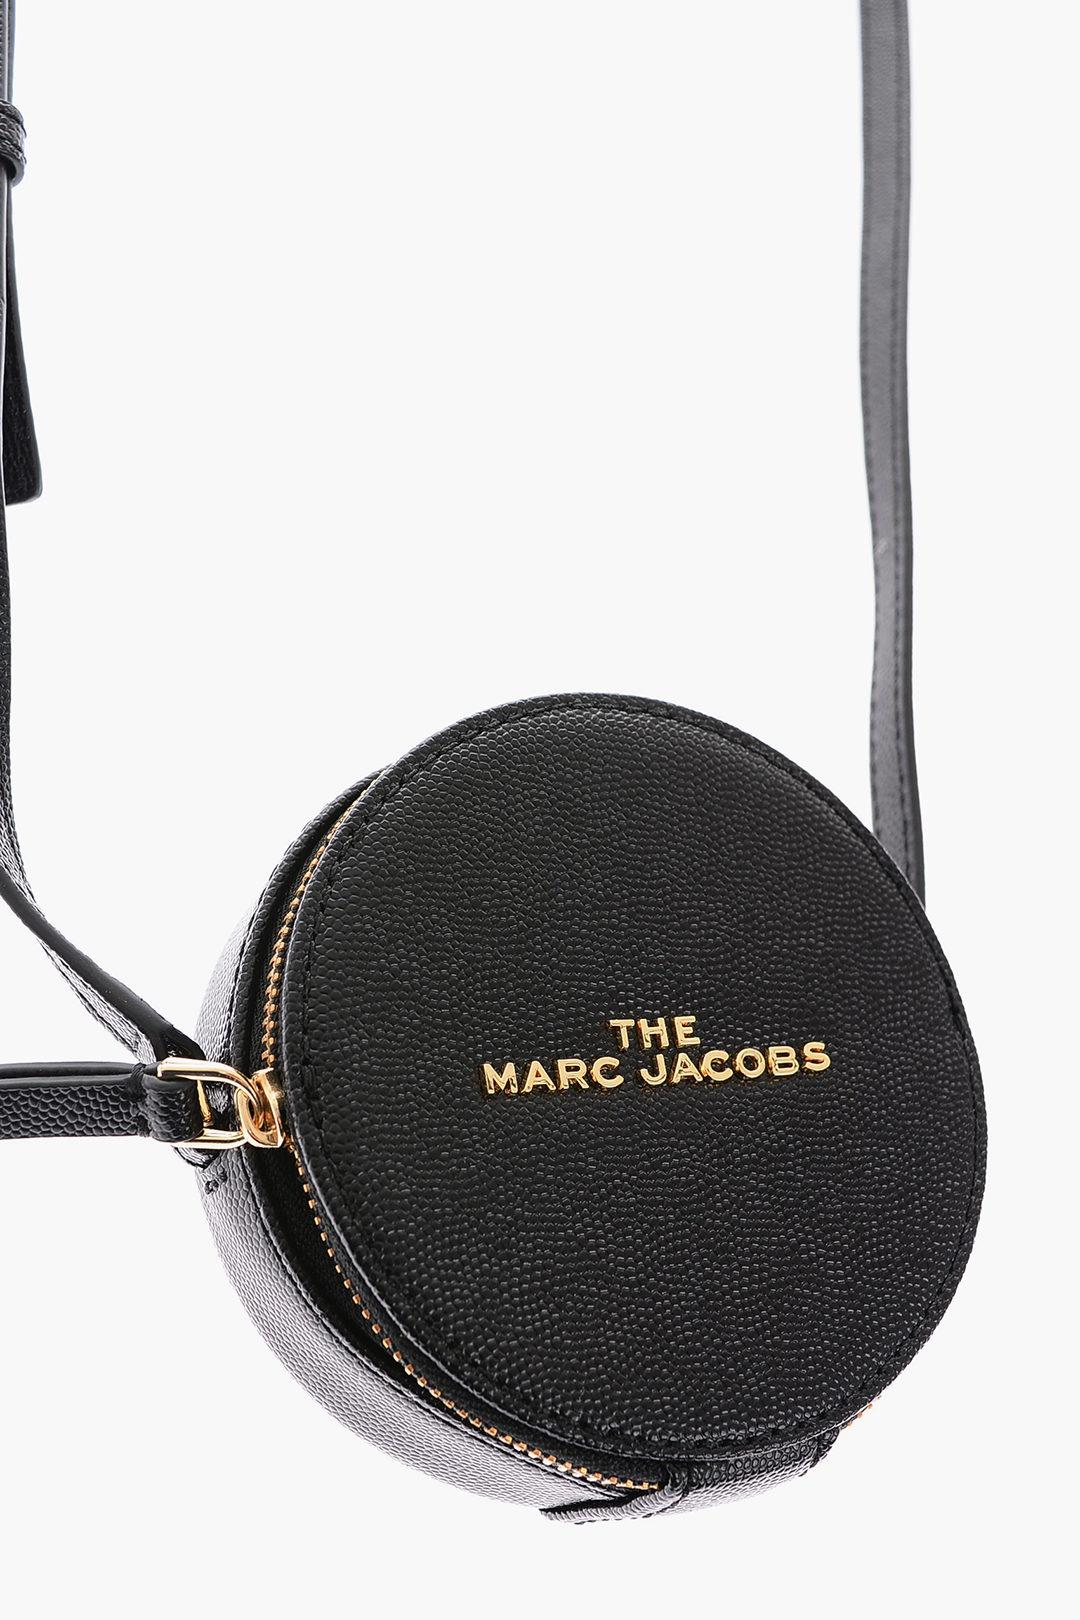MARC-JACOBS: (481, 1041, 830, 1094)
